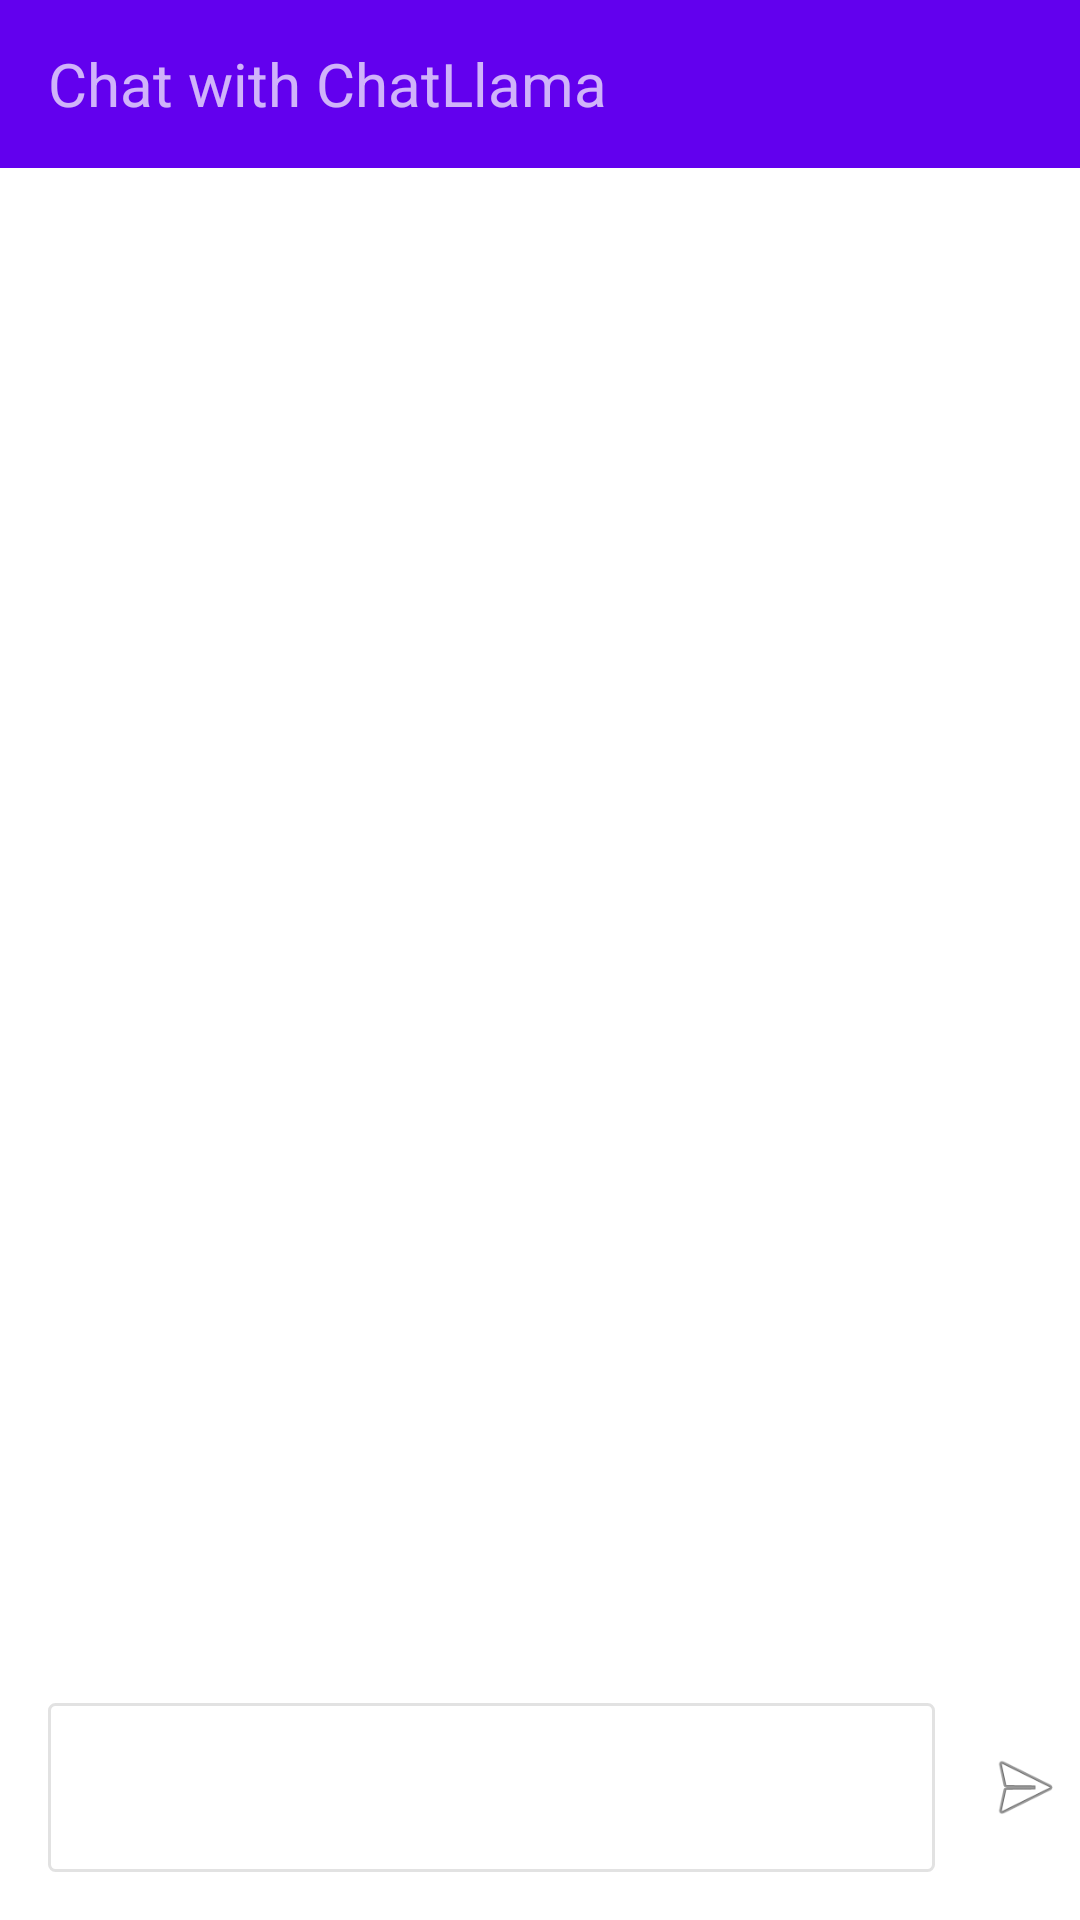

Named icons in this screenshot (1080 × 1920) and their bounding boxes, (x1,y1,x2,y2):
send: (999,1761,1053,1814)
